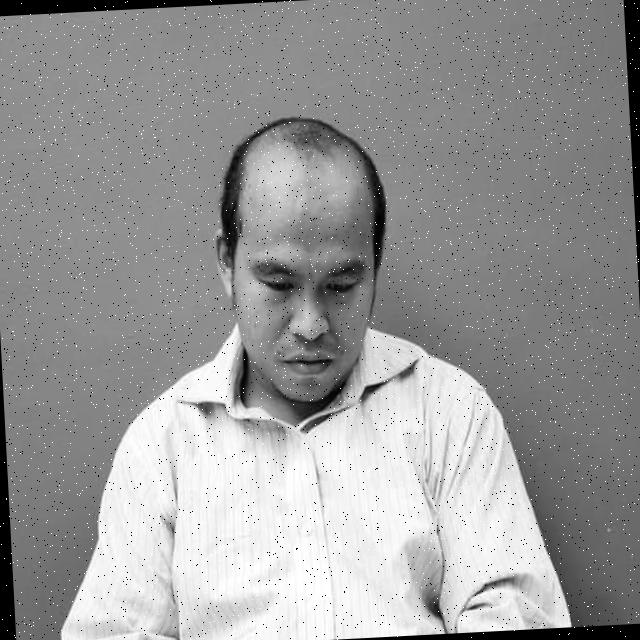Sadness: (239, 174, 376, 405)
